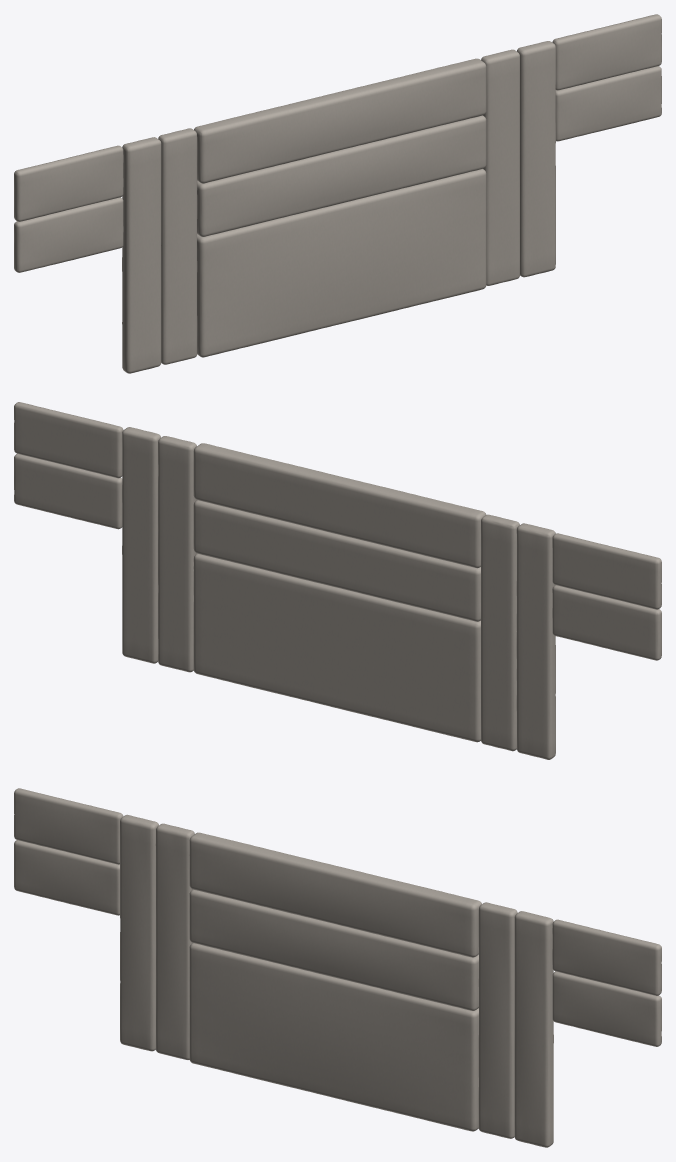
File: stanza-headboard-panels-01.glb
3 renders of one model, top to bottom at view 1: azimuth 30°, elevation 25°; view 2: azimuth 150°, elevation 25°; view 3: azimuth 330°, elevation 25°, orthographic.
Parts seen in each view (by area): view 1: center_panel_bottom, center_panel_top, center_panel_middle, strip_left_outer, strip_left_inner, strip_right_outer, strip_right_inner, side_left_top, side_left_bottom, side_right_top, side_right_bottom; view 2: center_panel_bottom, center_panel_top, center_panel_middle, strip_left_outer, strip_right_outer, strip_right_inner, strip_left_inner, side_left_top, side_right_top, side_left_bottom, side_right_bottom; view 3: center_panel_bottom, center_panel_top, center_panel_middle, strip_right_outer, strip_right_inner, strip_left_outer, strip_left_inner, side_right_top, side_right_bottom, side_left_top, side_left_bottom.
Part boxes in pixels (<box>): center_panel_bottom: <box>197,169,486,357</box>; center_panel_top: <box>194,58,486,183</box>; center_panel_middle: <box>197,115,486,236</box>; strip_left_outer: <box>122,137,161,373</box>; strip_left_inner: <box>158,128,197,364</box>; strip_right_outer: <box>517,41,555,277</box>; strip_right_inner: <box>481,49,519,285</box>; side_left_top: <box>14,145,123,221</box>; side_left_bottom: <box>14,197,123,272</box>; side_right_top: <box>552,14,661,90</box>; side_right_bottom: <box>555,66,661,141</box>; center_panel_bottom: <box>193,553,480,742</box>; center_panel_top: <box>193,443,486,568</box>; center_panel_middle: <box>193,500,480,621</box>; strip_left_outer: <box>516,523,555,759</box>; strip_right_outer: <box>122,427,160,663</box>; strip_right_inner: <box>158,436,196,672</box>; strip_left_inner: <box>481,514,519,751</box>; side_left_top: <box>552,533,661,609</box>; side_right_top: <box>14,402,123,478</box>; side_left_bottom: <box>552,585,661,660</box>; side_right_bottom: <box>14,453,122,529</box>; center_panel_bottom: <box>189,943,478,1131</box>; center_panel_top: <box>189,832,481,957</box>; center_panel_middle: <box>189,889,478,1010</box>; strip_right_outer: <box>514,911,553,1147</box>; strip_right_inner: <box>478,902,517,1138</box>; strip_left_outer: <box>120,814,158,1051</box>; strip_left_inner: <box>155,823,194,1059</box>; side_right_top: <box>552,919,661,995</box>; side_right_bottom: <box>552,971,661,1046</box>; side_left_top: <box>14,788,123,864</box>; side_left_bottom: <box>14,840,119,915</box>.
Bounding box in the file's own units: 3.6 × 1.21 × 0.1027.
1 material, 1 textured.
